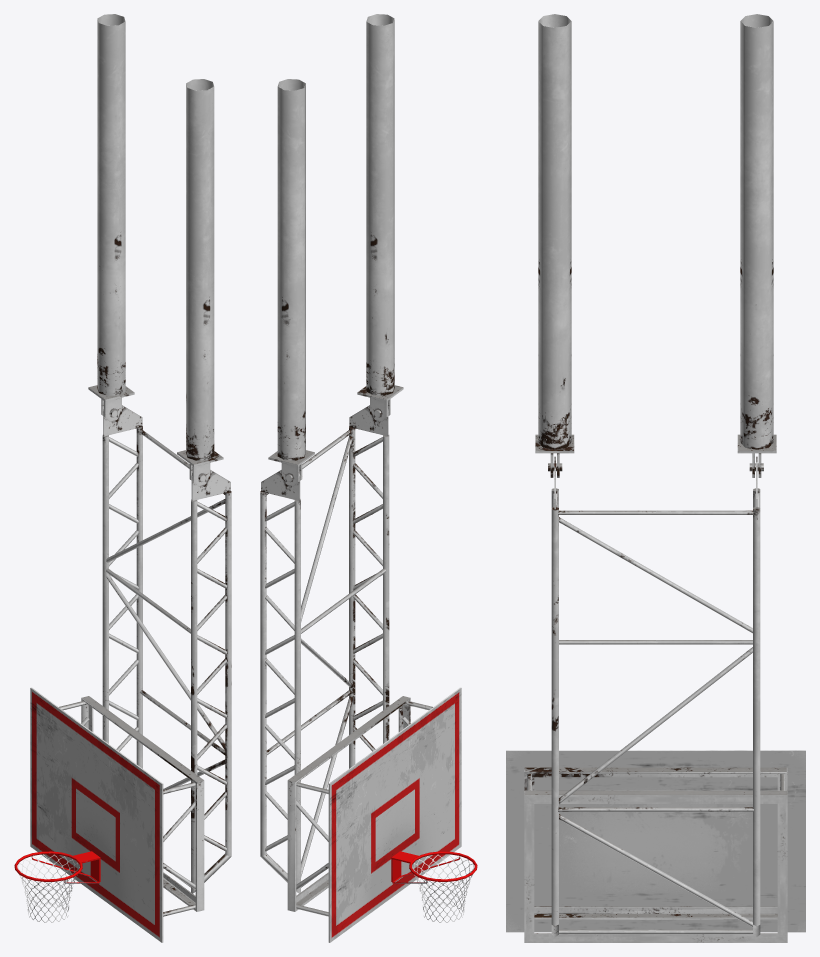
The model's file is mesh_basket_01.FBX.
3 renders of one model, left to right at view 1: azimuth 30°, elevation 25°; view 2: azimuth 150°, elevation 25°; view 3: azimuth 270°, elevation 25°, orthographic. The views are drawn at different scales.
Visible parts, largest first — view 1: mesh_basket_01; view 2: mesh_basket_01; view 3: mesh_basket_01.
Boxes of the visible parts, bbox=[...] form: mesh_basket_01: bbox=[14, 14, 231, 942]; mesh_basket_01: bbox=[260, 14, 477, 942]; mesh_basket_01: bbox=[506, 14, 805, 942].
Size of the model in its own units: 1.33 by 6.31 by 1.8.
2 materials, 1 textured.
